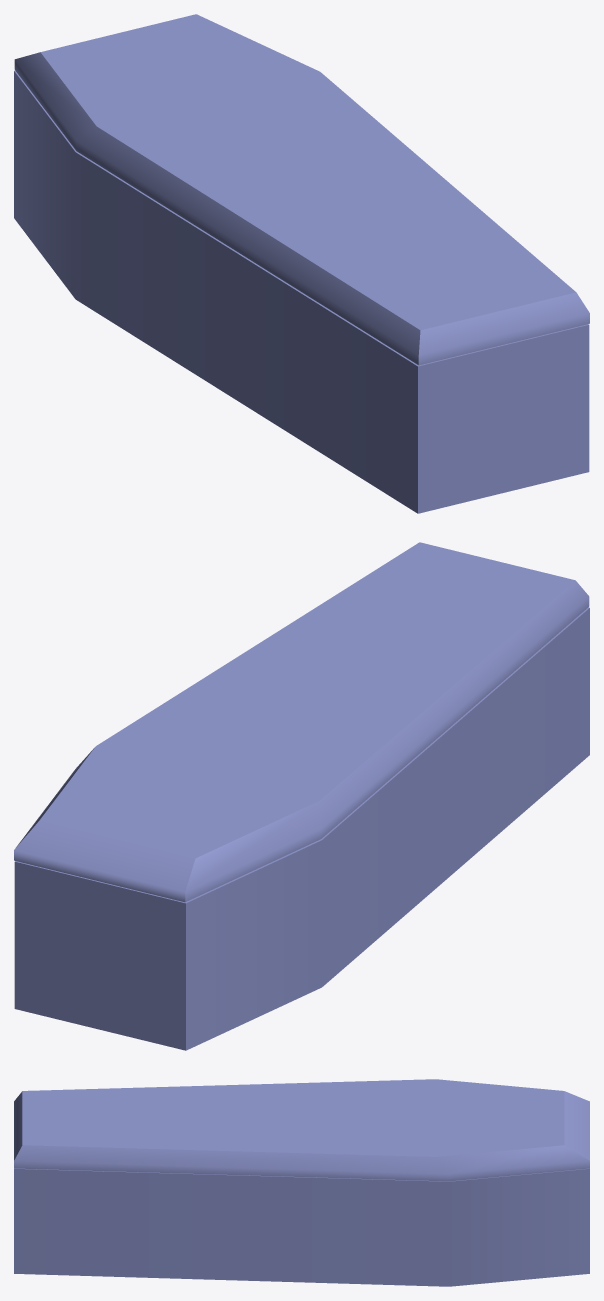
Rendered from Coffin_01_Lod0.fbx.
The picture shows the model from 3 angles, top to bottom: view 1: azimuth 30°, elevation 25°; view 2: azimuth 150°, elevation 25°; view 3: azimuth 270°, elevation 25°; orthographic projection. The views are drawn at different scales.
Visible parts, largest first — view 1: Coffin_01_Lod0; view 2: Coffin_01_Lod0; view 3: Coffin_01_Lod0.
Part boxes in pixels (x1=…): Coffin_01_Lod0: x1=14, y1=14, x2=589, y2=513; Coffin_01_Lod0: x1=14, y1=542, x2=589, y2=1050; Coffin_01_Lod0: x1=14, y1=1079, x2=589, y2=1286.
Bounding box in the file's own units: 60.27 × 41.39 × 171.
